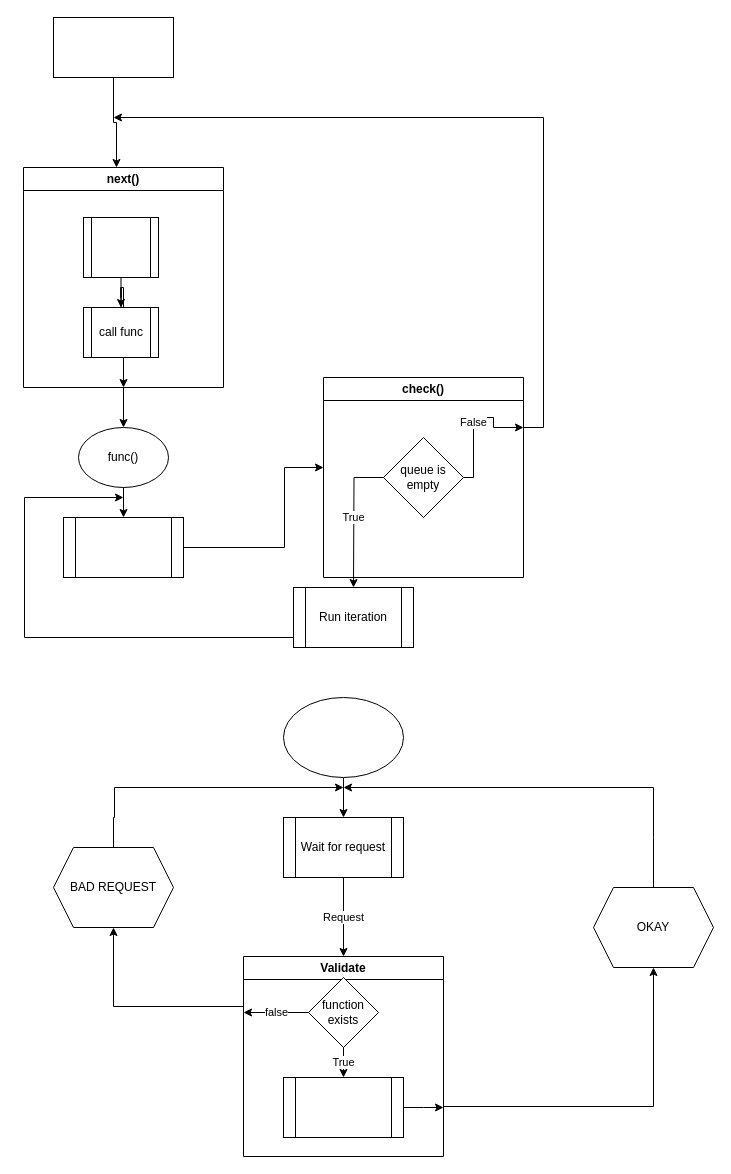
The diagram is 731 pixels wide and 1174 high, and some of its shapes have lost their labels. The shapes that lost their labels are listed below. From the top down, each one's box as (x1, y1, x2, y2) in pixels, then its label:
(52, 16, 174, 78): Event Loop
(82, 216, 158, 278): pop queue
(62, 516, 184, 578): call Check()
(282, 696, 404, 778): Web Socket
(282, 1076, 404, 1138): add function to queue
